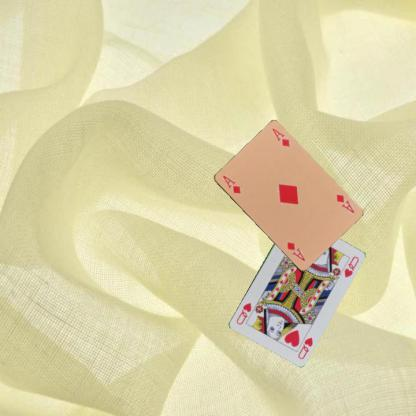Ad: (220, 173, 243, 195), (334, 191, 356, 214)
Qh: (295, 334, 314, 360)
